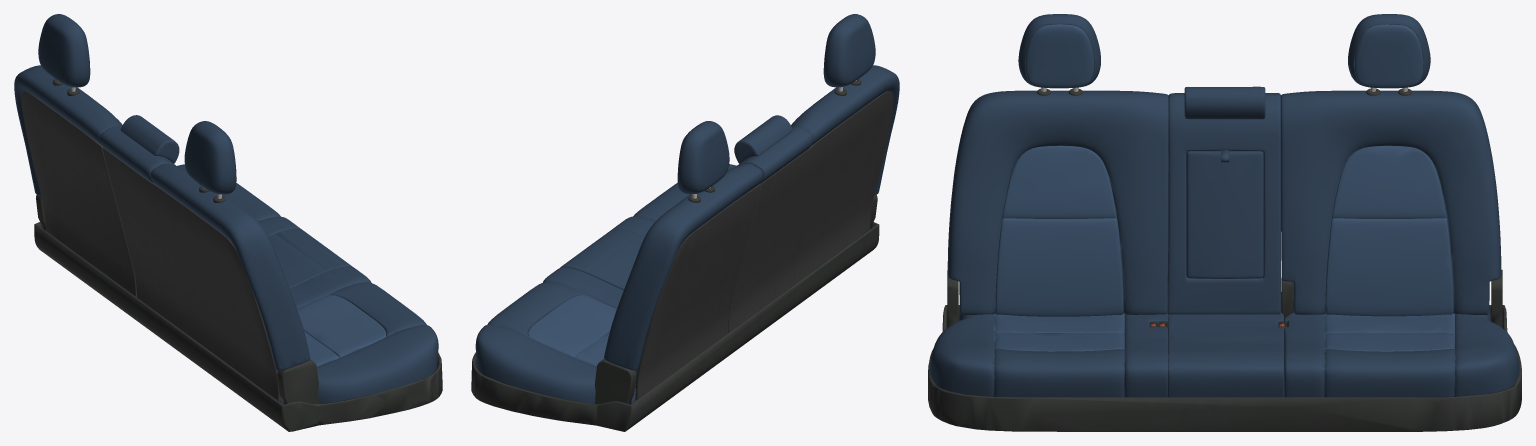
Rendered from rear.glb.
3 renders of one model, left to right at view 1: azimuth 30°, elevation 25°; view 2: azimuth 150°, elevation 25°; view 3: azimuth 270°, elevation 25°, orthographic. The views are drawn at different scales.
Parts seen in each view (by area): view 1: armrest_01_mesh_00, seats_01_mesh_00, base_01_mesh_00; view 2: armrest_01_mesh_00, seats_01_mesh_00, base_01_mesh_00; view 3: armrest_01_mesh_00, base_01_mesh_00.
Boxes of the visible parts, x1=… form: armrest_01_mesh_00: x1=14, y1=14, x2=438, y2=404; seats_01_mesh_00: x1=21, y1=80, x2=280, y2=402; base_01_mesh_00: x1=34, y1=30, x2=442, y2=431; armrest_01_mesh_00: x1=475, y1=14, x2=899, y2=404; seats_01_mesh_00: x1=635, y1=80, x2=893, y2=400; base_01_mesh_00: x1=471, y1=29, x2=879, y2=431; armrest_01_mesh_00: x1=930, y1=14, x2=1518, y2=397; base_01_mesh_00: x1=928, y1=24, x2=1521, y2=431.
Bounding box in the file's own units: 0.7051 × 0.8811 × 1.53.
6 materials, 4 textured.
